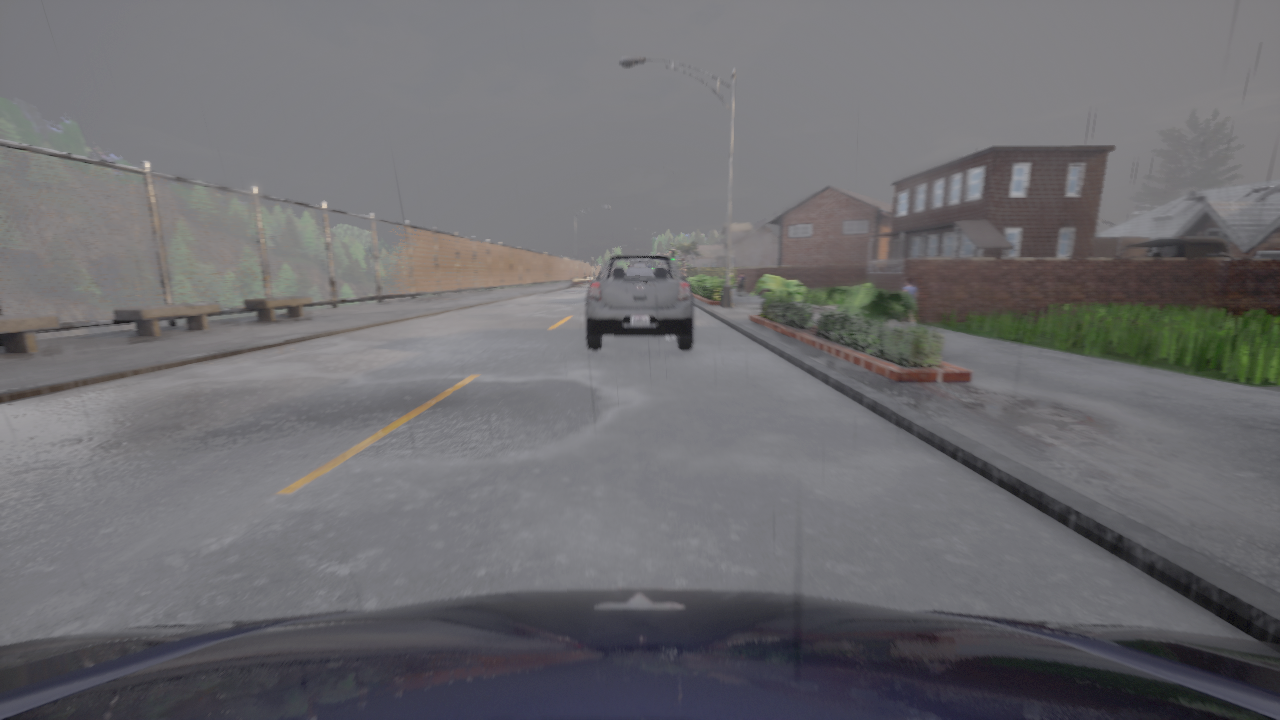cyclist: (0, 588, 1279, 719), (585, 255, 694, 350), (1113, 237, 1234, 258)
pedestrian: (895, 277, 916, 327), (738, 272, 746, 295)
